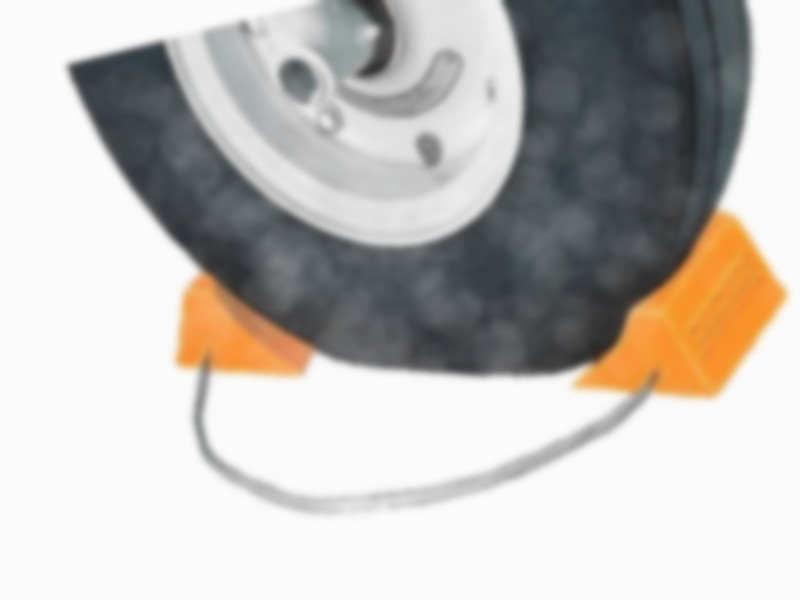chock: (537, 196, 800, 432), (151, 229, 343, 406)
wheel: (65, 0, 800, 475)
